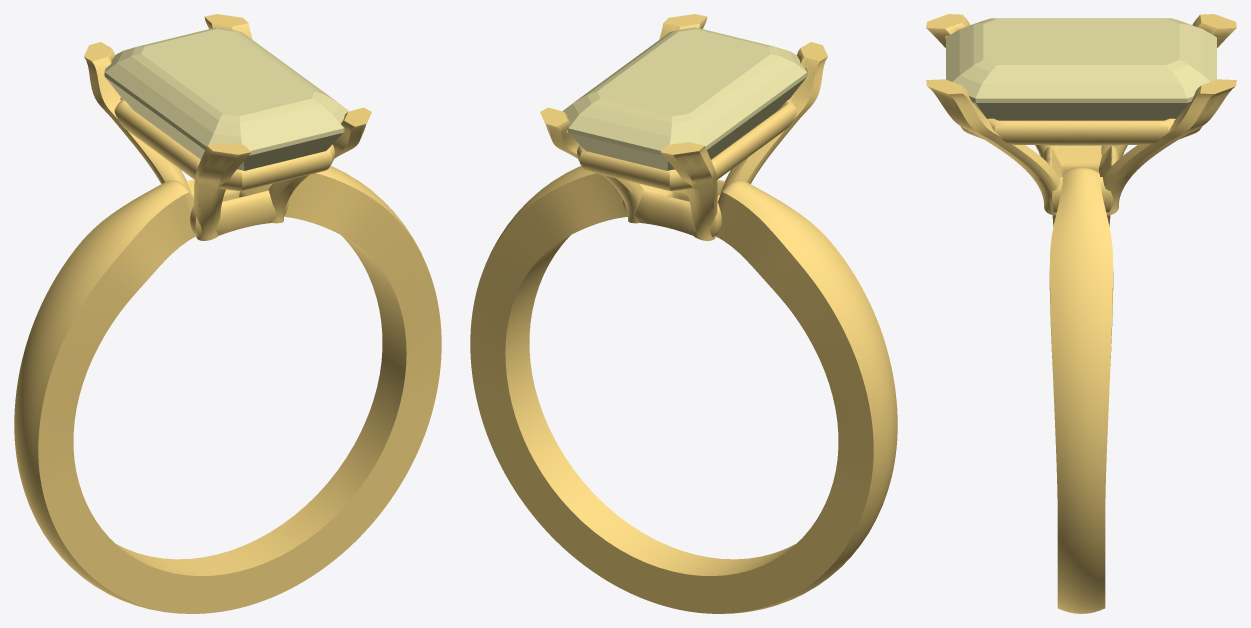
File: NickBsolitaireeng.glb
3 views of the same model, side by side, from view 1: azimuth 30°, elevation 25°; view 2: azimuth 150°, elevation 25°; view 3: azimuth 270°, elevation 25° (orthographic). The views are drawn at different scales.
Visible parts, largest first — view 1: Nick YG for 3d model, Nick dia for 3d model; view 2: Nick YG for 3d model, Nick dia for 3d model; view 3: Nick YG for 3d model, Nick dia for 3d model.
Part boxes in pixels (bbox=[...]): Nick YG for 3d model: bbox=[14, 14, 441, 613]; Nick dia for 3d model: bbox=[104, 27, 349, 170]; Nick YG for 3d model: bbox=[470, 14, 897, 613]; Nick dia for 3d model: bbox=[562, 27, 807, 170]; Nick YG for 3d model: bbox=[926, 14, 1236, 613]; Nick dia for 3d model: bbox=[946, 18, 1216, 145].
Bounding box in the file's own units: 18.66 × 22.99 × 11.79.
